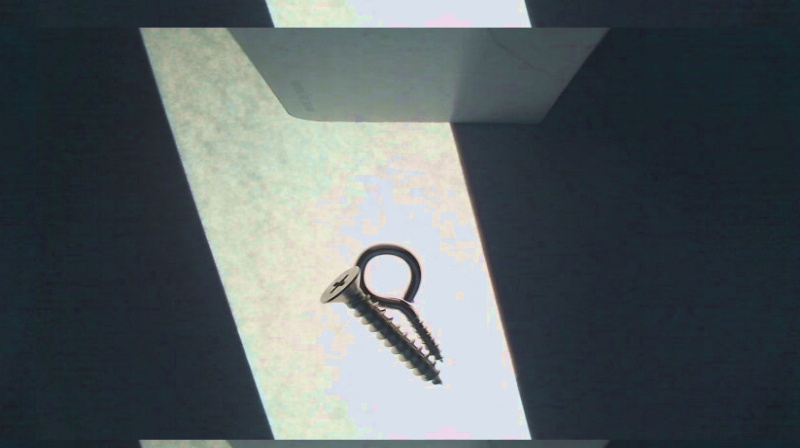O001: (353, 242, 444, 363)
S001: (318, 266, 442, 385)
